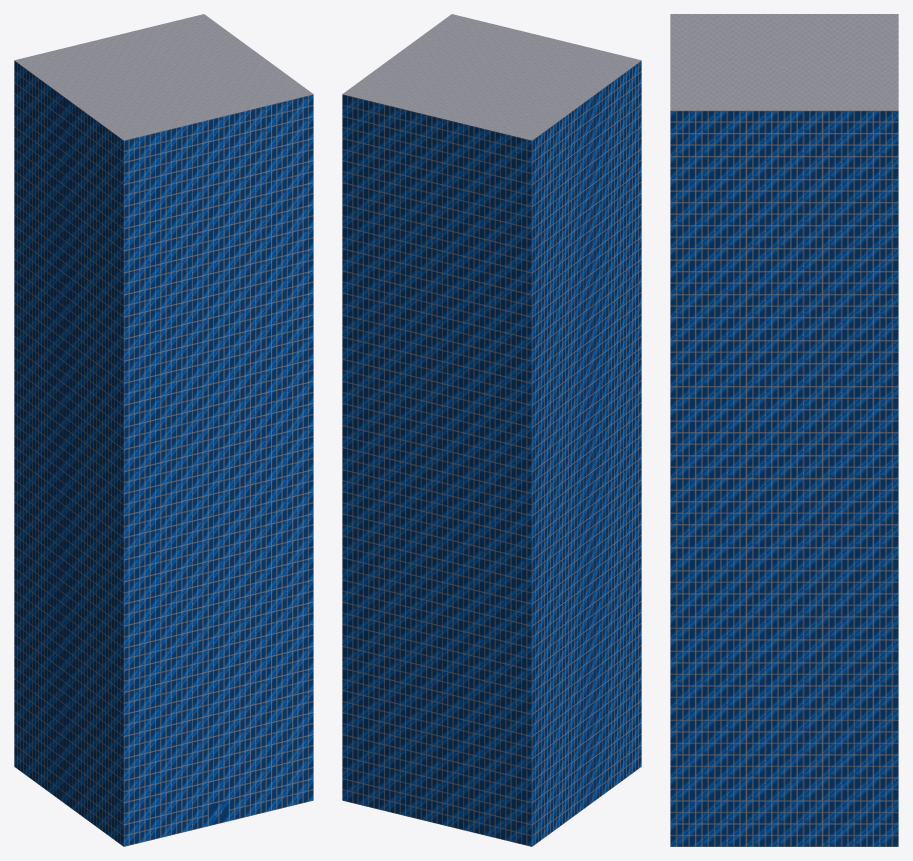
Rendered from LastLuna_Model_Skyscraper.fbx.
3 renders of one model, left to right at view 1: azimuth 30°, elevation 25°; view 2: azimuth 150°, elevation 25°; view 3: azimuth 270°, elevation 25°, orthographic. The views are drawn at different scales.
Visible parts, largest first — view 1: Skyscraper001; view 2: Skyscraper001; view 3: Skyscraper001.
Part boxes in pixels (<box>): Skyscraper001: <box>14,14,313,846</box>; Skyscraper001: <box>342,14,641,846</box>; Skyscraper001: <box>670,14,898,846</box>.
Size of the model in its own units: 709 by 2520 by 709.
